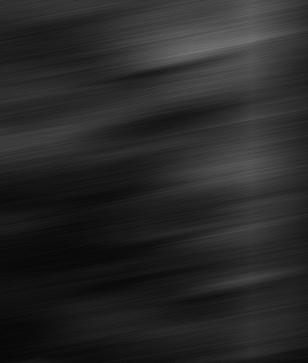Airbag: (0, 0, 308, 363), (286, 2, 308, 363)
